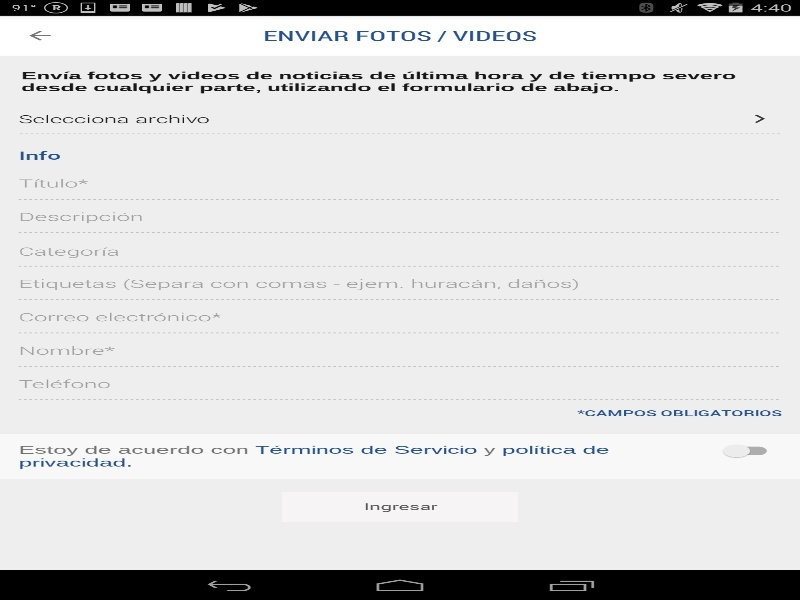Button: (282, 491, 518, 521), (10, 15, 69, 55)
Input: (18, 208, 781, 233), (18, 275, 781, 300), (18, 375, 781, 400), (18, 175, 781, 199), (18, 309, 781, 333), (18, 342, 781, 366)
